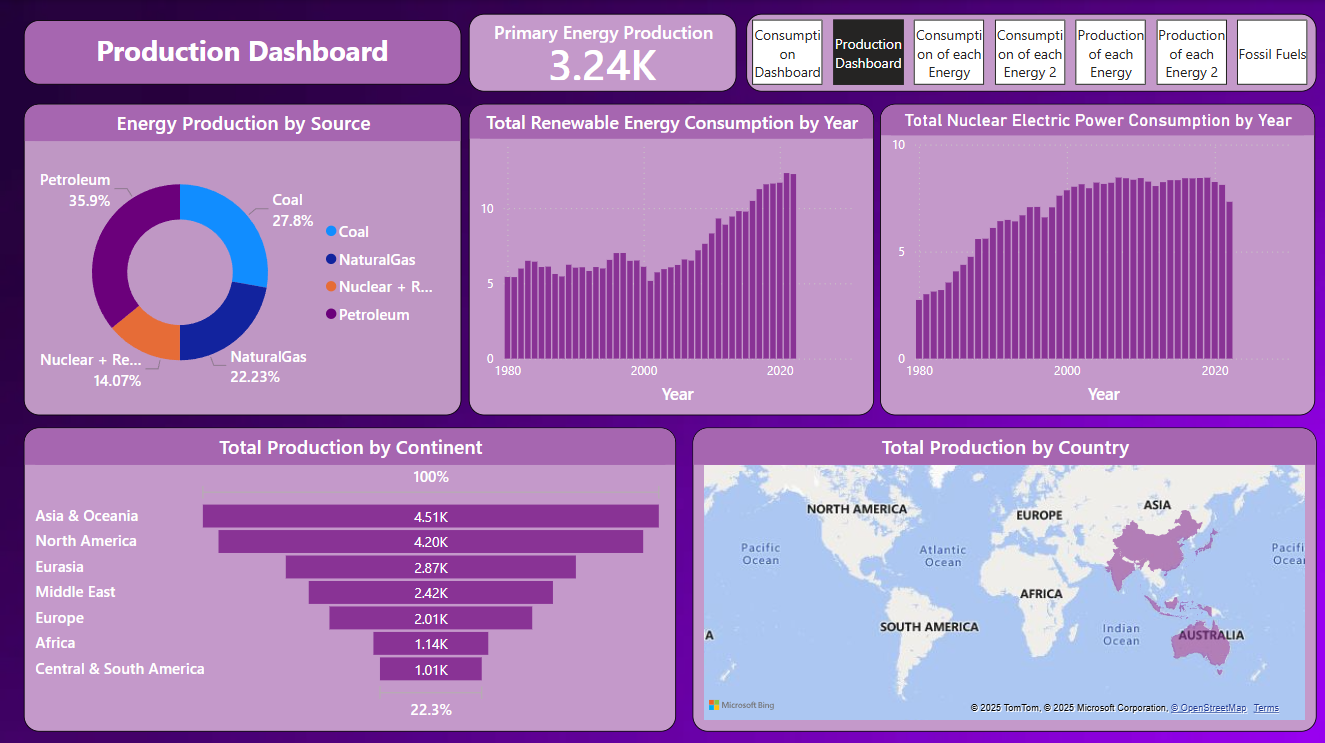

The page's visual inventory and layout, read from the dashboard file:
{"tool":"powerbi","page":{"name":"Production Dashboard","canvas":[1280,720],"ordinal":1},"visuals":[{"type":"donutChart","title":"Energy Production by Source","fields":{"Y":["Sum(Production_Coal.Production_Coal)","Sum(Production_NaturalGas.Production_NaturalGas)","Sum(Production_Nuclear+renewables.Production_Neuclear)","Sum(Production_Pertroleum.Production_Petrolium)"]},"box":[23.3,100.2,422.6,300.5],"z":0},{"type":"funnel","title":"Total Production by Continent","fields":{"Category":["Consumption_Total.Continent"],"Y":["Sum(Production_Total.Total_production)"]},"box":[23.3,413,629.8,293.7],"z":1000},{"type":"filledMap","title":"Total Production by Country","fields":{"Category":["Consumption_Total.Country"]},"box":[668.3,413,602.4,293.7],"z":2000},{"type":"clusteredColumnChart","title":"Total Renewable Energy Consumption by Year","fields":{"Category":["World Energy Overview.Date.Variation.Date Hierarchy.Year"],"Y":["Sum(World Energy Overview.Total Renewable Energy Production)"]},"box":[452.8,100.2,391.1,300.5],"z":3000},{"type":"clusteredColumnChart","title":"Total Nuclear Electric Power Consumption by Year","fields":{"Category":["World Energy Overview.Date.Variation.Date Hierarchy.Year"],"Y":["Sum(World Energy Overview.Nuclear Electric Power Production)"]},"box":[849.4,100.2,419.9,300.5],"z":4000},{"type":"card","title":"Primary Energy Production","fields":{"Values":["Sum(World Energy Overview.Total Primary Energy Production)"]},"box":[452.5,13.8,258.8,75],"z":5000},{"type":"pageNavigator","box":[720,13.8,550,75],"z":6000},{"type":"textbox","box":[22.9,19.3,422.3,62.7],"z":7000}]}

Visuals, with their boxes in screenshot pixels (x1, y1, x2, y2), scaled from the page's 1280x720 canvas onto the 1325x743 screenshot:
"Energy Production by Source" donutChart: {"x1": 24, "y1": 103, "x2": 462, "y2": 414}
"Total Production by Continent" funnel: {"x1": 24, "y1": 426, "x2": 676, "y2": 729}
"Total Production by Country" filledMap: {"x1": 692, "y1": 426, "x2": 1315, "y2": 729}
"Total Renewable Energy Consumption by Year" clusteredColumnChart: {"x1": 469, "y1": 103, "x2": 874, "y2": 414}
"Total Nuclear Electric Power Consumption by Year" clusteredColumnChart: {"x1": 879, "y1": 103, "x2": 1314, "y2": 414}
"Primary Energy Production" card: {"x1": 468, "y1": 14, "x2": 736, "y2": 92}
pageNavigator: {"x1": 745, "y1": 14, "x2": 1315, "y2": 92}
textbox: {"x1": 24, "y1": 20, "x2": 461, "y2": 85}
